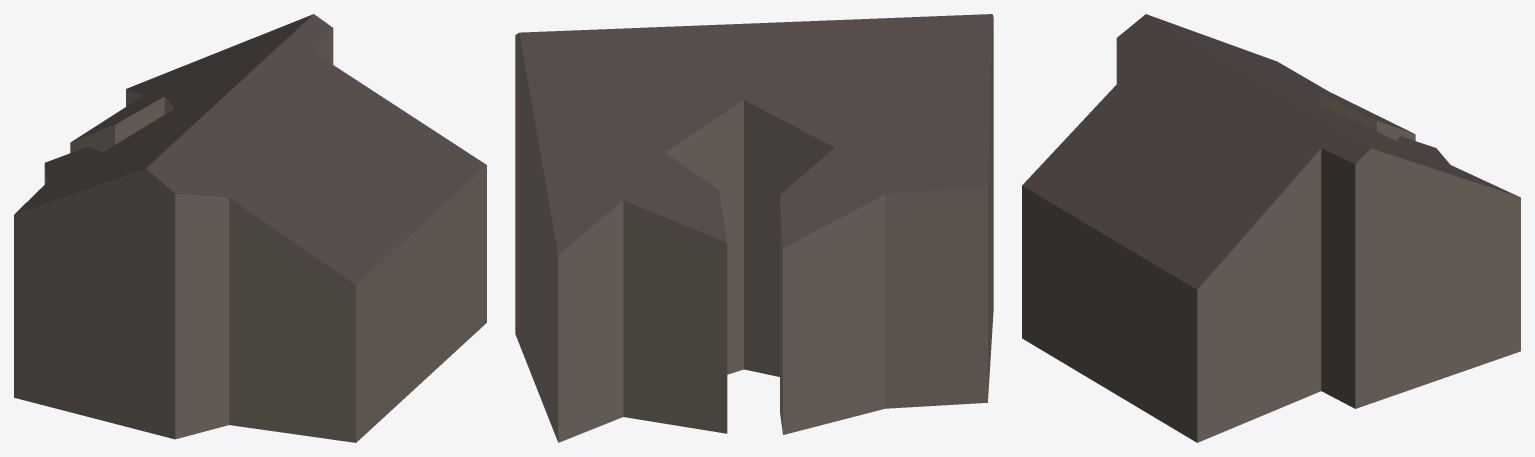
3 renders of one model, left to right at view 1: azimuth 30°, elevation 25°; view 2: azimuth 150°, elevation 25°; view 3: azimuth 270°, elevation 25°, orthographic. The views are drawn at different scales.
Visible parts, largest first — view 1: HP-w1516161952; view 2: HP-w1516161952; view 3: HP-w1516161952.
Boxes of the visible parts, x1,y1,x2,y2 form: HP-w1516161952: (14, 14, 486, 442); HP-w1516161952: (515, 14, 993, 442); HP-w1516161952: (1022, 14, 1520, 442).
Bounding box in the file's own units: 25.74 × 15.02 × 26.61.
